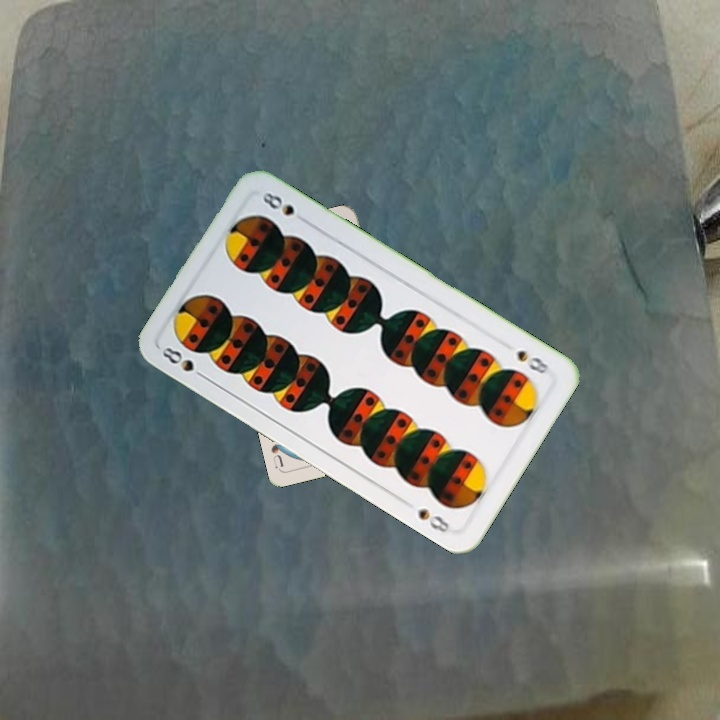S8: (158, 343, 211, 383), (512, 346, 552, 377)
